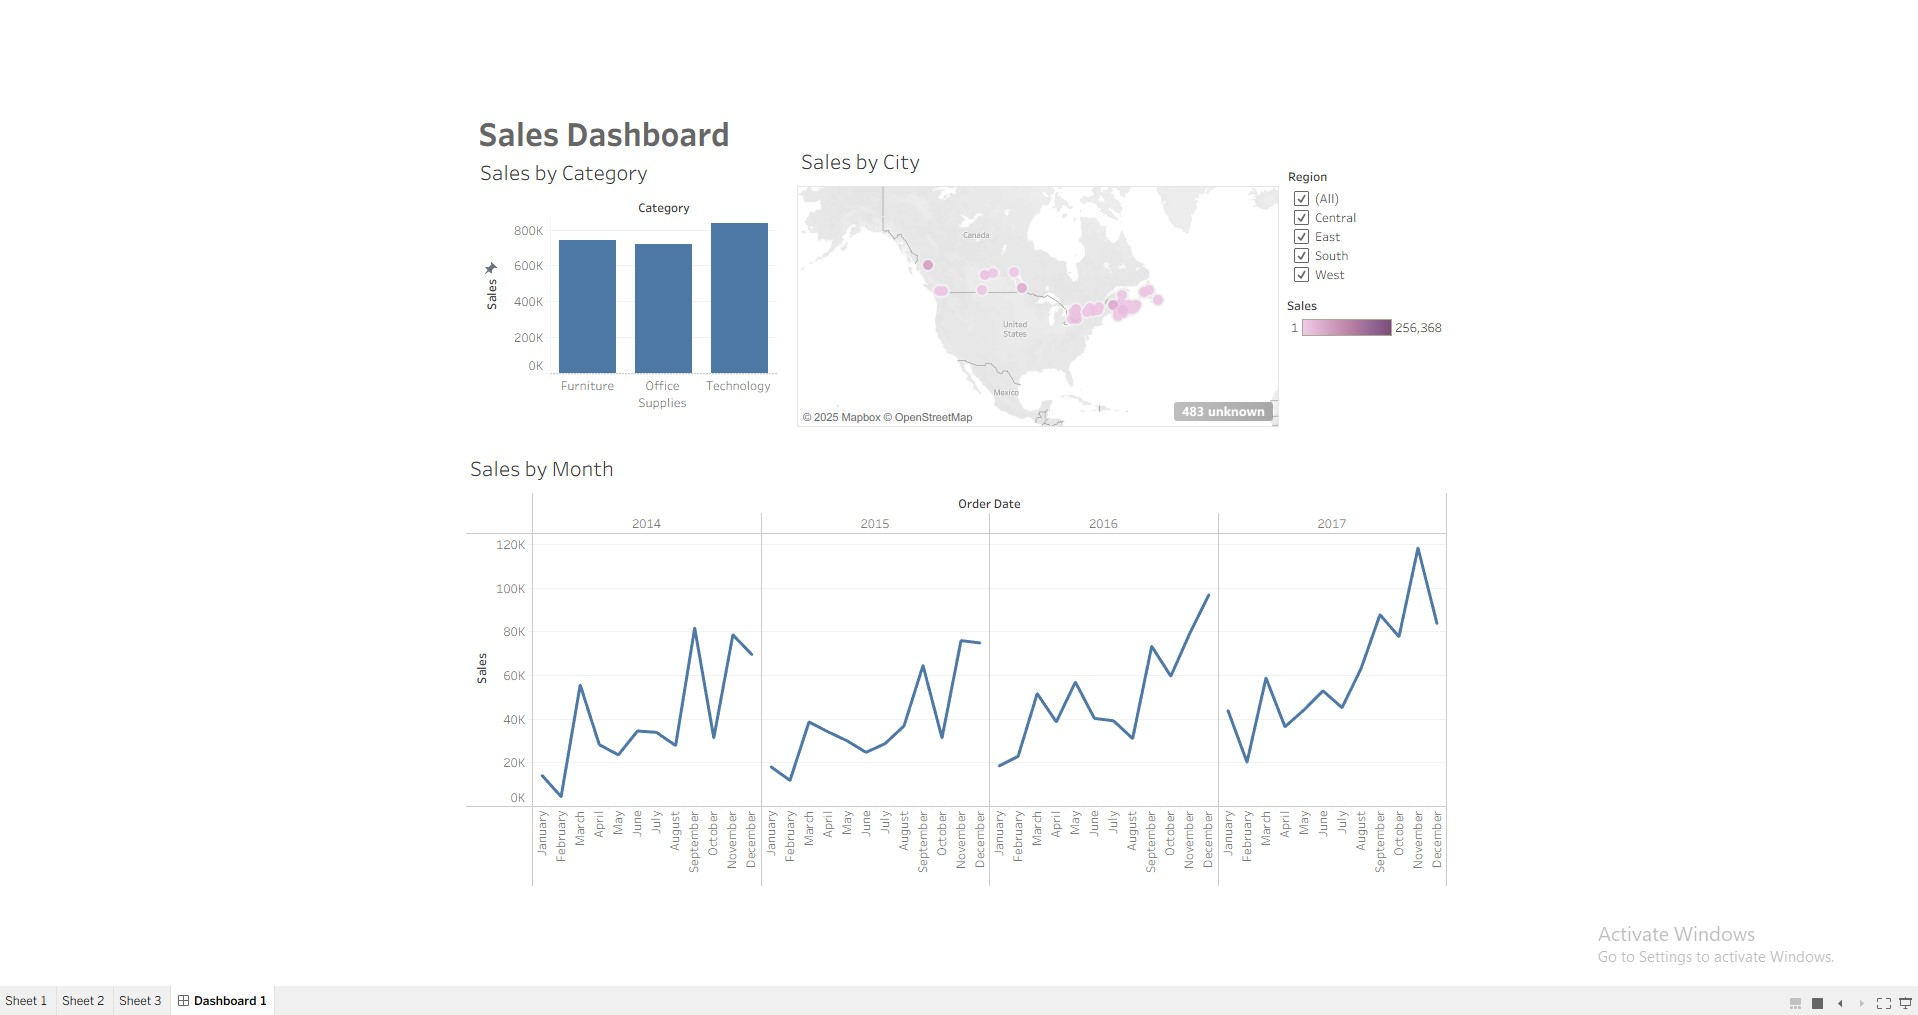

The page's visual inventory and layout, read from the dashboard file:
{"tool":"tableau","page":{"name":"Dashboard 1","canvas":[1000,800],"ordinal":0},"visuals":[{"type":"text","box":[17,19,305,44]},{"type":"worksheet","title":"Sheet 3","mark":"Automatic","box":[338,51,482,284]},{"type":"worksheet","title":"Sheet 1","mark":"Automatic","rows":["Sales"],"cols":["Category"],"box":[17,62,301,260]},{"type":"filter","title":"Sheet 1","param":"[federated.1urjzen006947e12qj3at0qiwx6q].[none:Region:nk]","box":[829,76,159,127]},{"type":"legend","title":"Sheet 3","param":"[federated.1urjzen006947e12qj3at0qiwx6q].[sum:Sales:qk]","box":[828,205,160,76]},{"type":"worksheet","title":"Sheet 2","mark":"Automatic","rows":["Sales"],"cols":["Order Date","Order Date"],"box":[7,358,981,437]}]}

Visuals, with their boxes on the page's 1000x800 design canvas (x1, y1, x2, y2). These are canvas units, not pixel positions in the 1918x1015 screenshot, which may show the page scaled, cropped or inside an application window:
text: 17/19/322/63
"Sheet 3" worksheet: 338/51/820/335
"Sheet 1" worksheet: 17/62/318/322
"Sheet 1" filter: 829/76/988/203
"Sheet 3" legend: 828/205/988/281
"Sheet 2" worksheet: 7/358/988/795
